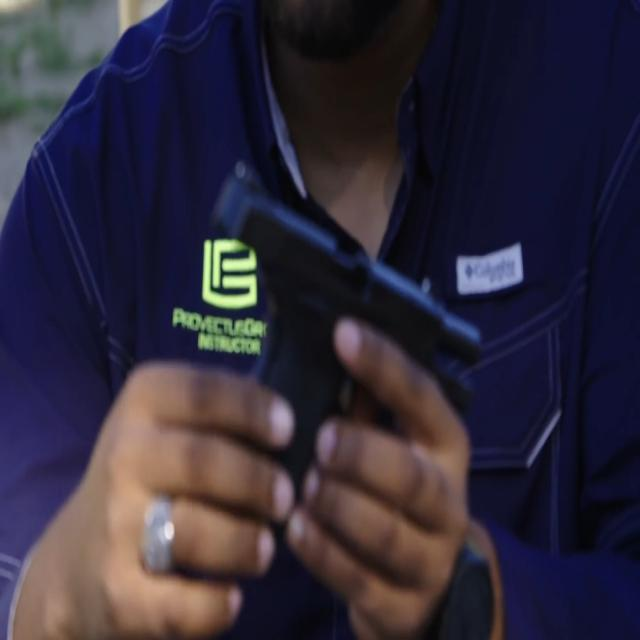handgun: (212, 147, 489, 500)
